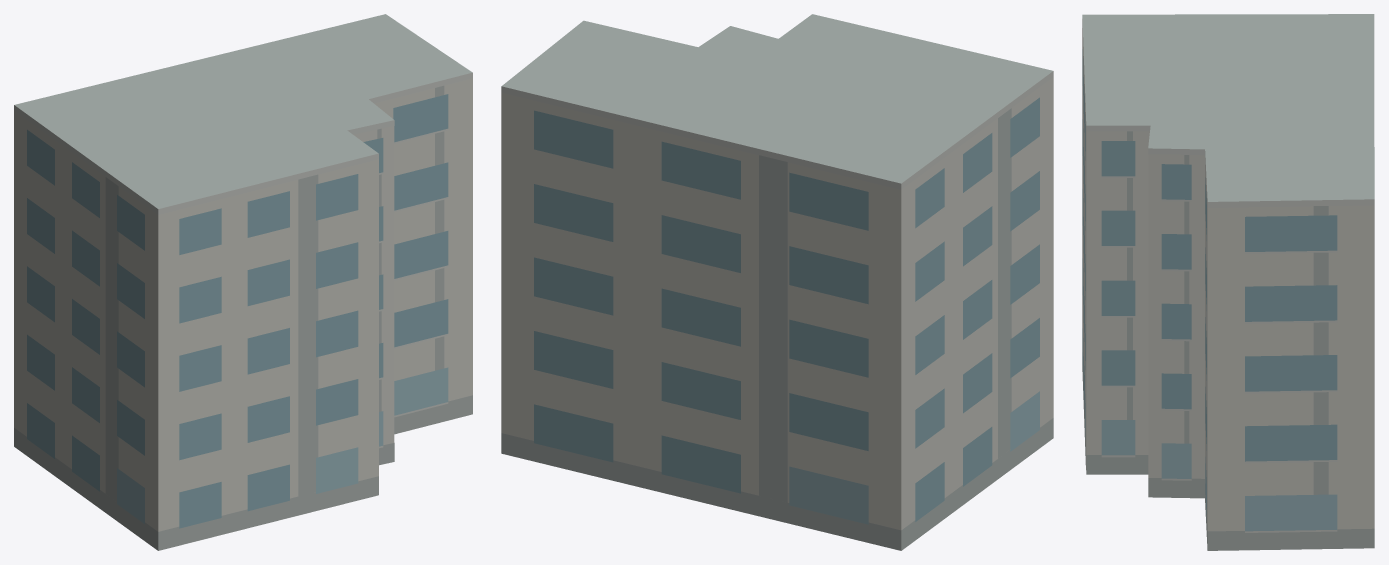
Rendered from survey-upis-32789554.glb.
The picture shows the model from 3 angles, left to right: view 1: azimuth 30°, elevation 25°; view 2: azimuth 150°, elevation 25°; view 3: azimuth 270°, elevation 25°; orthographic projection. The views are drawn at different scales.
Visible parts, largest first — view 1: survey-upis-32789554.tmp; view 2: survey-upis-32789554.tmp; view 3: survey-upis-32789554.tmp.
Part boxes in pixels (x1=…): survey-upis-32789554.tmp: x1=14, y1=14, x2=472, y2=550; survey-upis-32789554.tmp: x1=501, y1=14, x2=1053, y2=550; survey-upis-32789554.tmp: x1=1082, y1=14, x2=1374, y2=550.
Bounding box in the file's own units: 16.84 × 14.57 × 11.07.
